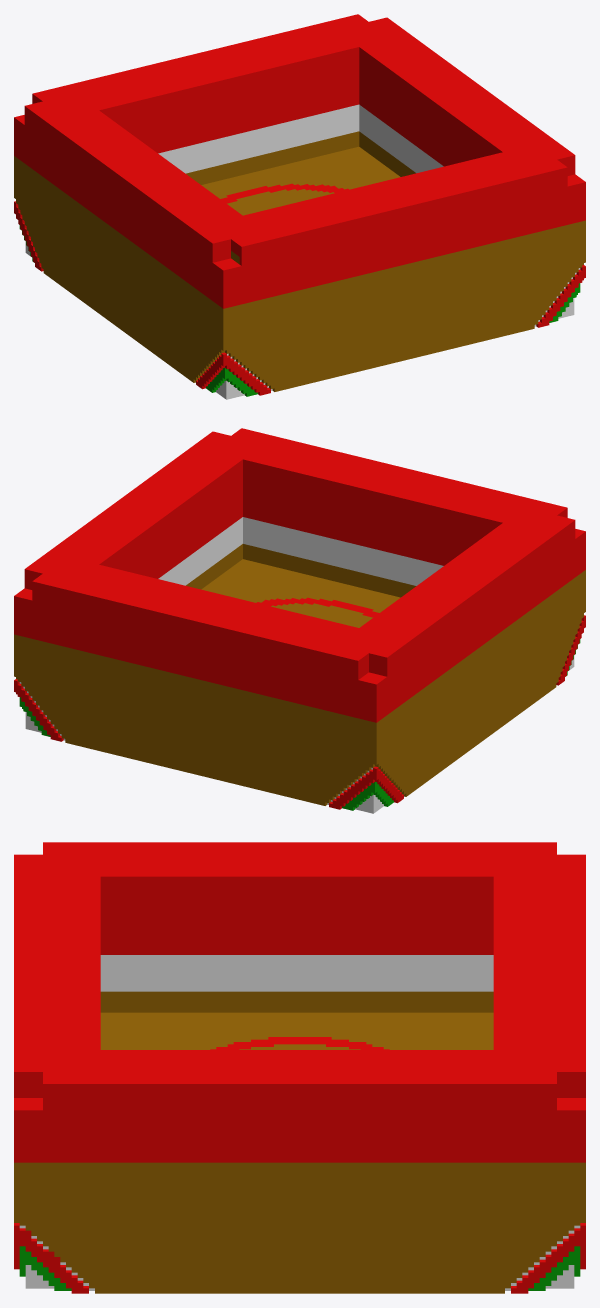
The model's file is Box_Holder.obj.
3 views of the same model, one above another, from view 1: azimuth 30°, elevation 25°; view 2: azimuth 150°, elevation 25°; view 3: azimuth 270°, elevation 25° (orthographic). The views are drawn at different scales.
Size of the model in its own units: 9.9 by 4 by 9.9.
1 material, 1 textured.
